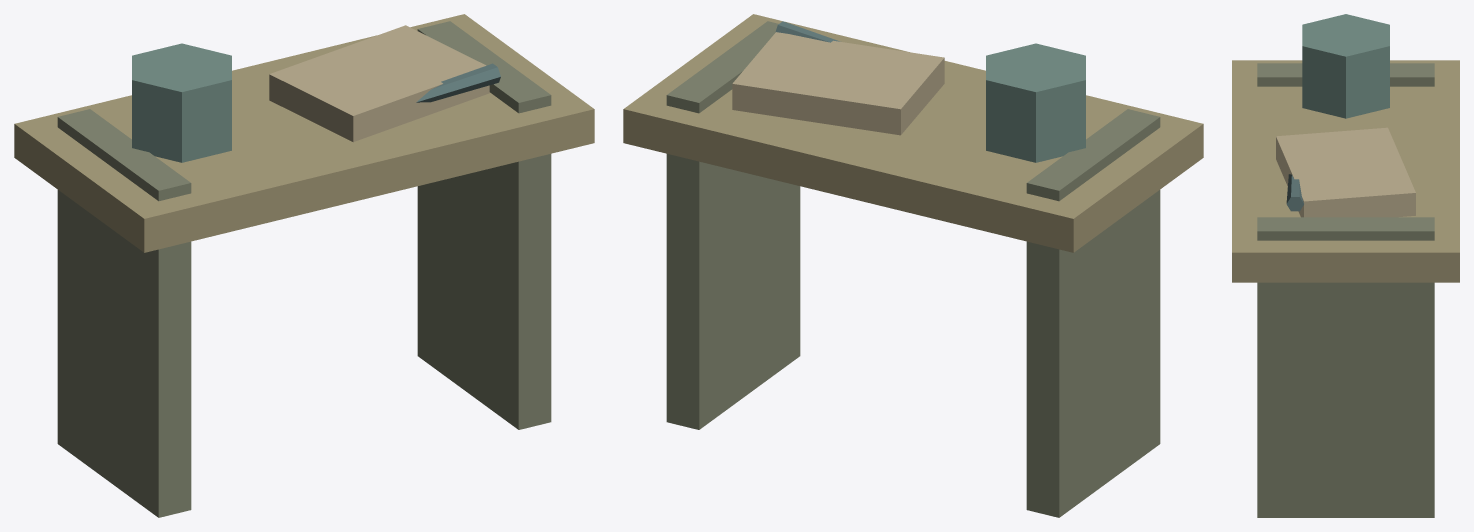
Rendered from map-exclusive-v3__ruins_07.glb.
3 renders of one model, left to right at view 1: azimuth 30°, elevation 25°; view 2: azimuth 150°, elevation 25°; view 3: azimuth 270°, elevation 25°, orthographic. The views are drawn at different scales.
Visible parts, largest first — view 1: ruins_07; view 2: ruins_07; view 3: ruins_07.
Boxes of the visible parts, <box> form: ruins_07: <box>14,14,594,517</box>; ruins_07: <box>623,14,1203,517</box>; ruins_07: <box>1232,14,1459,517</box>.
Size of the model in its own units: 1.8 by 1.51 by 0.9001.
